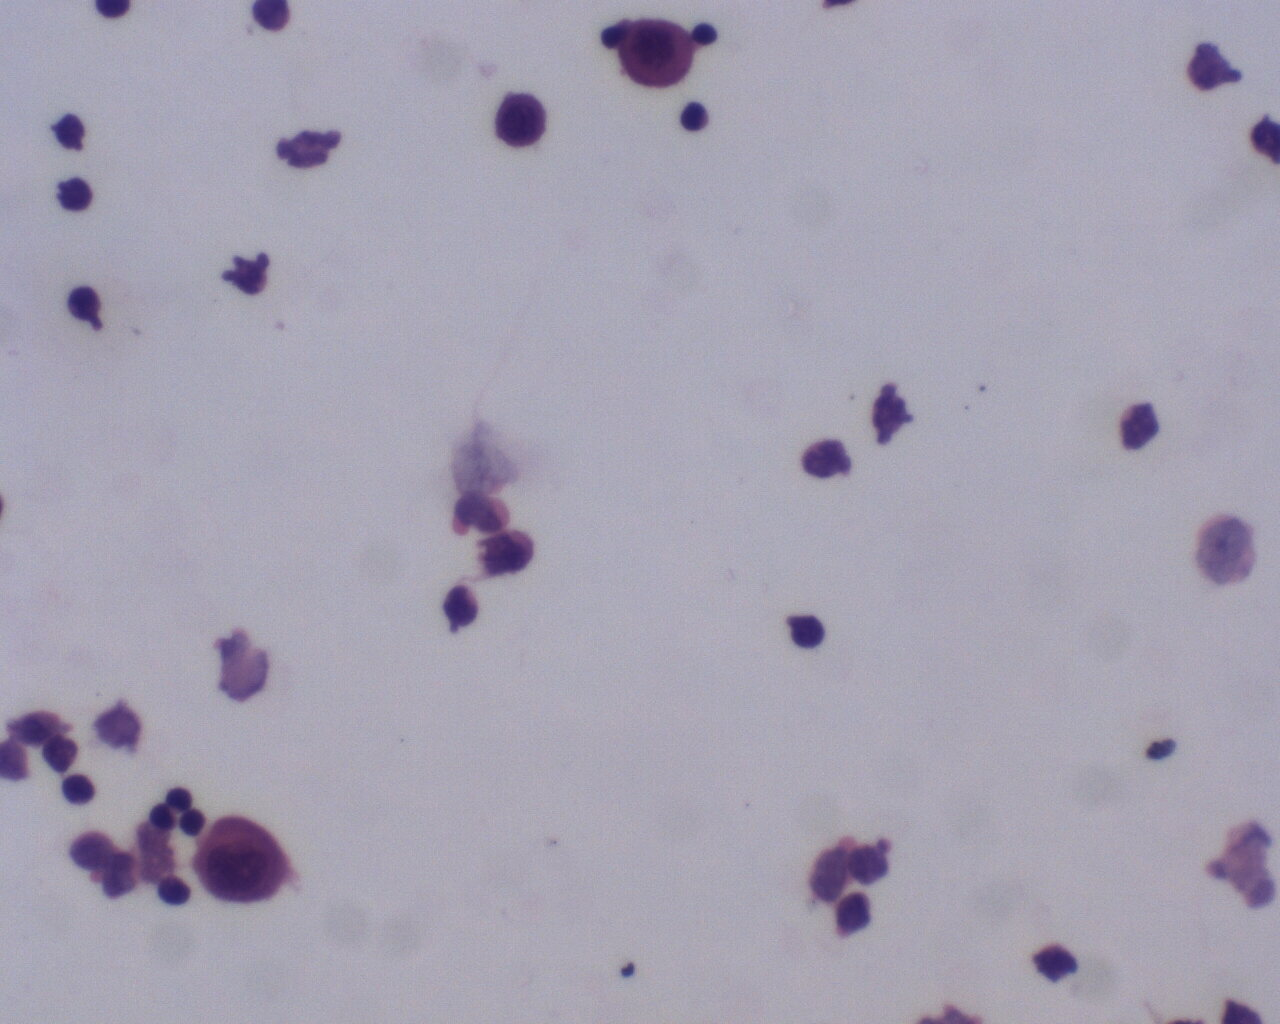ab: (191, 811, 293, 907), (488, 91, 551, 152)
lymph: (783, 603, 832, 652), (152, 872, 193, 911), (60, 770, 101, 808), (676, 96, 712, 133)
meso: (616, 13, 697, 89)
